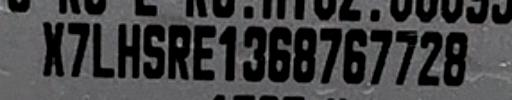letter: (191, 21, 219, 81), (342, 26, 370, 85), (317, 25, 345, 83), (442, 29, 470, 87), (114, 21, 142, 77), (415, 30, 443, 86), (166, 21, 192, 81), (40, 19, 66, 77), (91, 21, 117, 79), (140, 21, 166, 79), (266, 23, 292, 81), (240, 24, 266, 82), (292, 24, 318, 82), (367, 28, 393, 86), (392, 28, 418, 84), (66, 20, 90, 78), (216, 23, 238, 81)
